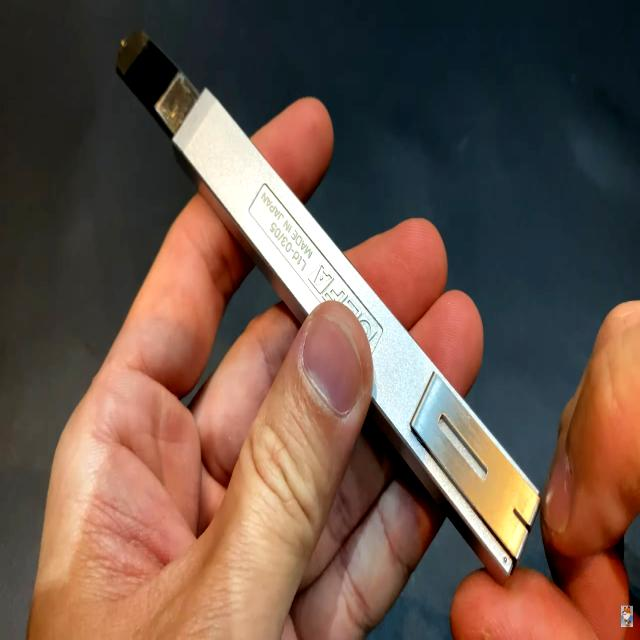cutter: (9, 0, 640, 640)
